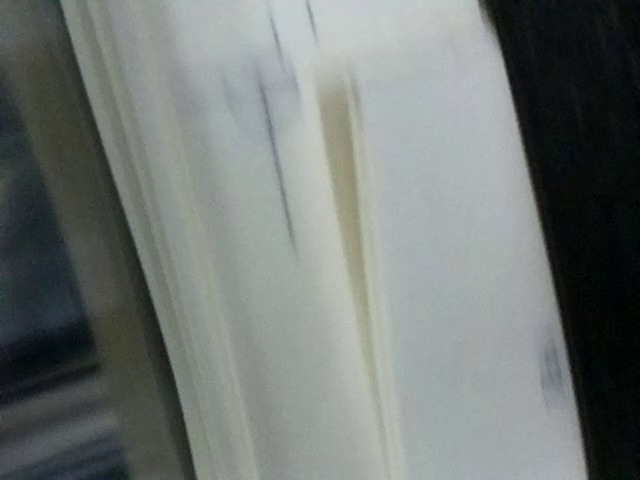not_sure: (209, 3, 303, 124)
